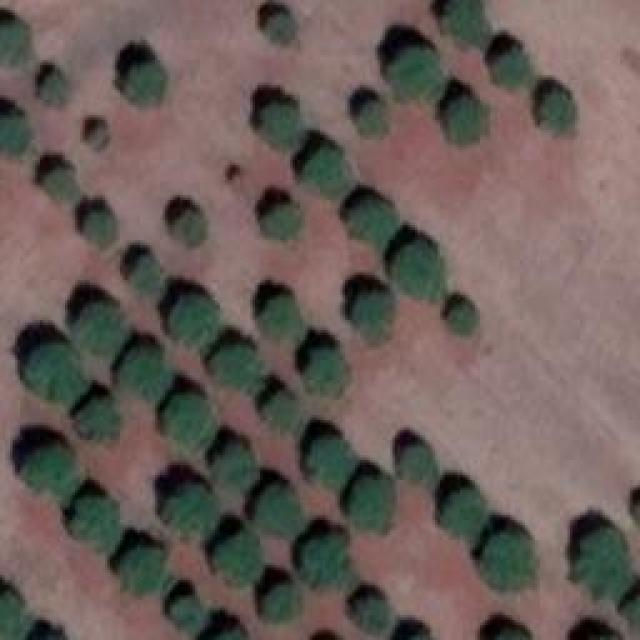Tree: (565, 525, 630, 603), (158, 390, 218, 453), (390, 43, 448, 106), (483, 532, 546, 590), (70, 300, 128, 360), (23, 440, 83, 498), (385, 243, 440, 303), (28, 343, 83, 403), (298, 530, 358, 585), (115, 342, 168, 400), (165, 483, 220, 538), (65, 495, 118, 550), (438, 487, 488, 545), (298, 148, 353, 198), (345, 473, 395, 528), (210, 530, 260, 585), (115, 545, 170, 595), (350, 285, 395, 345), (350, 195, 400, 248), (300, 345, 353, 395), (210, 342, 265, 390), (303, 438, 353, 488), (212, 440, 260, 490), (73, 393, 118, 446), (263, 100, 306, 153), (445, 95, 488, 148), (443, 0, 493, 45), (170, 293, 215, 343), (253, 480, 298, 530), (538, 90, 583, 140), (485, 43, 528, 93), (125, 60, 168, 108), (260, 295, 305, 340), (263, 583, 306, 628), (75, 208, 120, 248), (168, 205, 208, 248), (263, 390, 303, 433), (0, 107, 32, 160), (398, 445, 438, 485), (0, 20, 35, 65), (40, 165, 80, 203), (262, 200, 300, 238), (165, 595, 203, 633), (38, 70, 71, 113), (0, 595, 30, 640), (615, 587, 640, 640), (128, 255, 161, 295), (348, 598, 388, 628), (258, 15, 293, 48), (443, 303, 476, 338), (355, 100, 388, 135), (195, 625, 253, 640), (493, 625, 543, 640), (83, 120, 108, 148)
